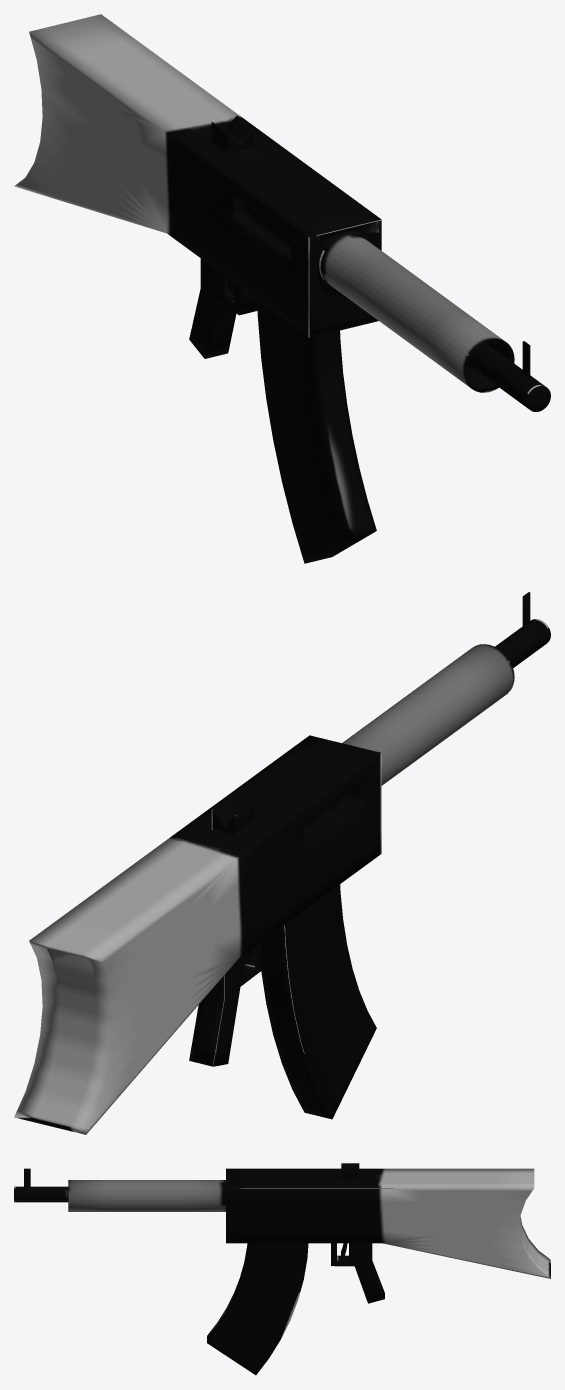
File: rifle.glb
3 views of the same model, one above another, from view 1: azimuth 30°, elevation 25°; view 2: azimuth 150°, elevation 25°; view 3: azimuth 270°, elevation 25° (orthographic). The views are drawn at different scales.
Parts seen in each view (by area): view 1: Cube; view 2: Cube; view 3: Cube.
Part boxes in pixels (left/top/right/bottom): Cube: left=14, top=14, right=550, bottom=563; Cube: left=14, top=592, right=550, bottom=1134; Cube: left=14, top=1163, right=550, bottom=1375.
Size of the model in its own units: 0.1636 by 0.8091 by 1.92.
1 material, 1 textured.
